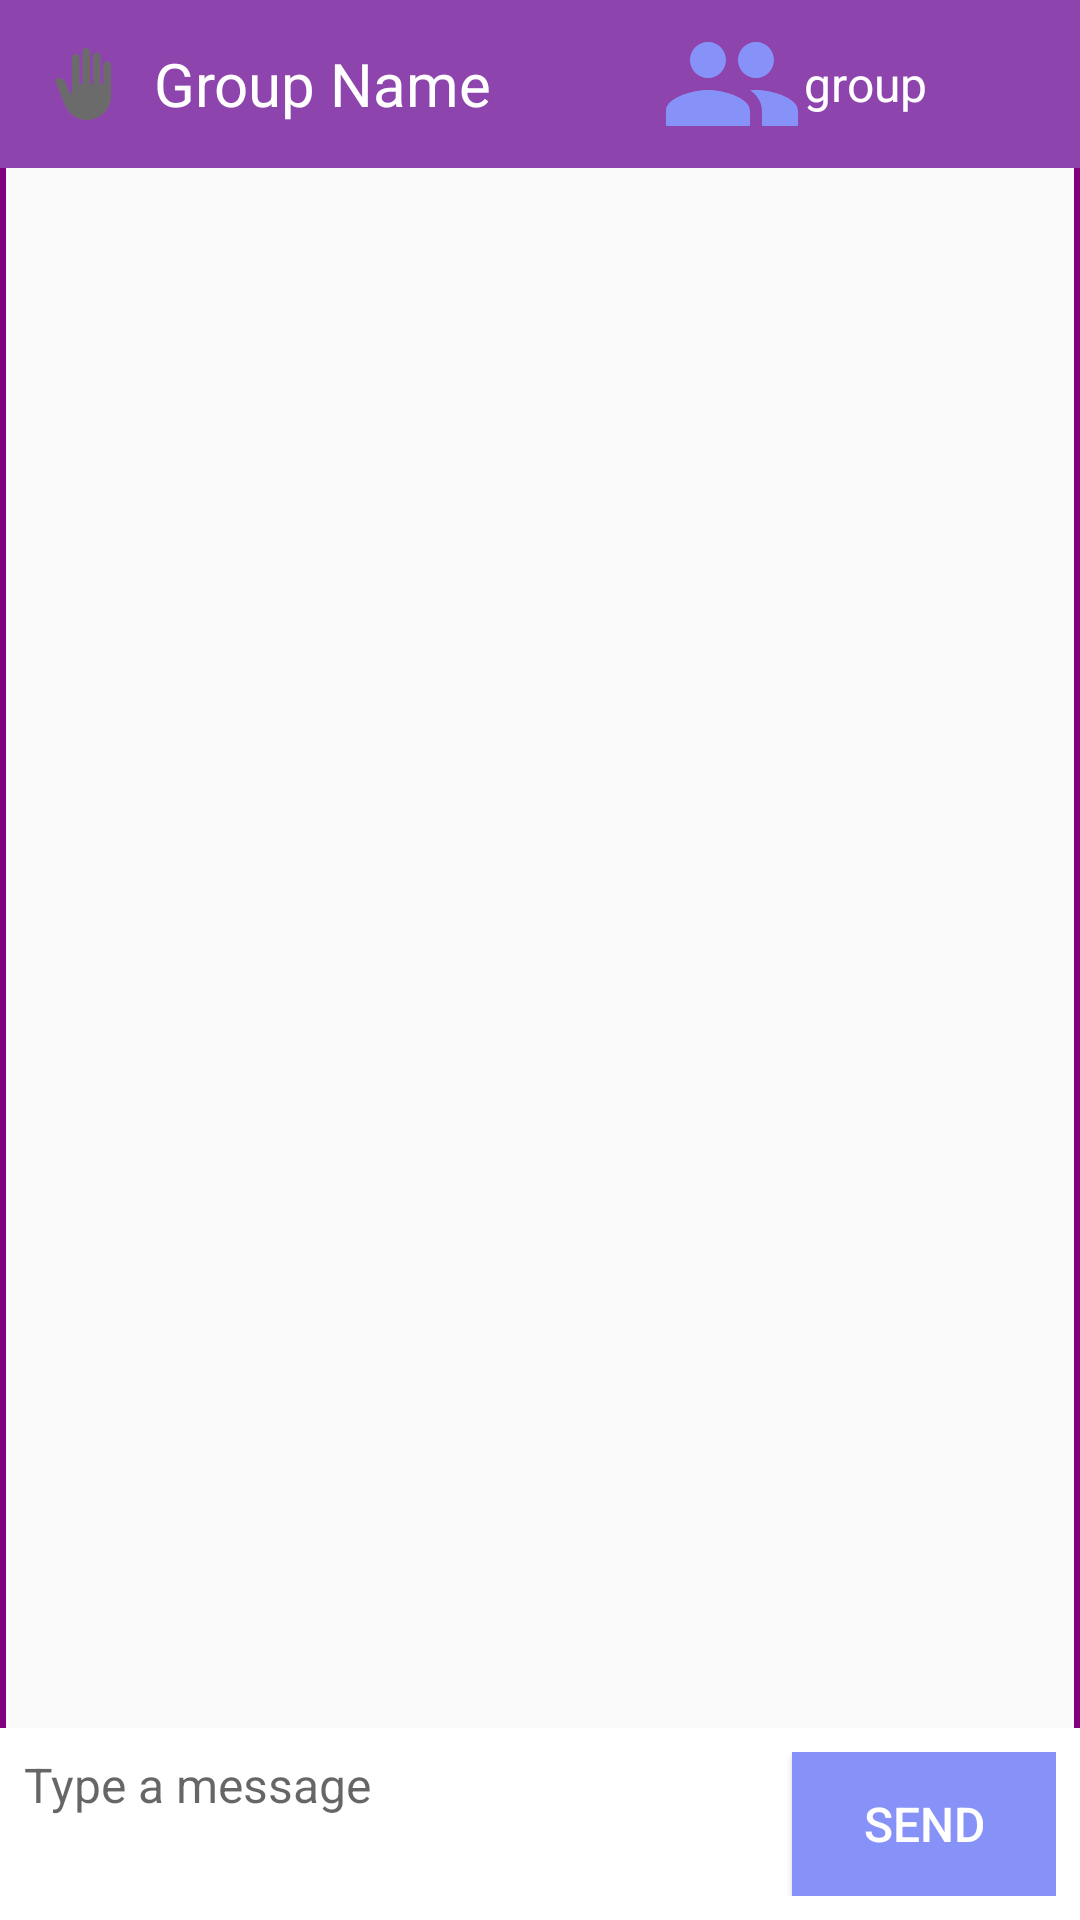

Locate icon controls on the screen. Image size 1080px×1920px, boxes as (x1, y1, x2, y2).
User Icon: (666, 42, 798, 126)
